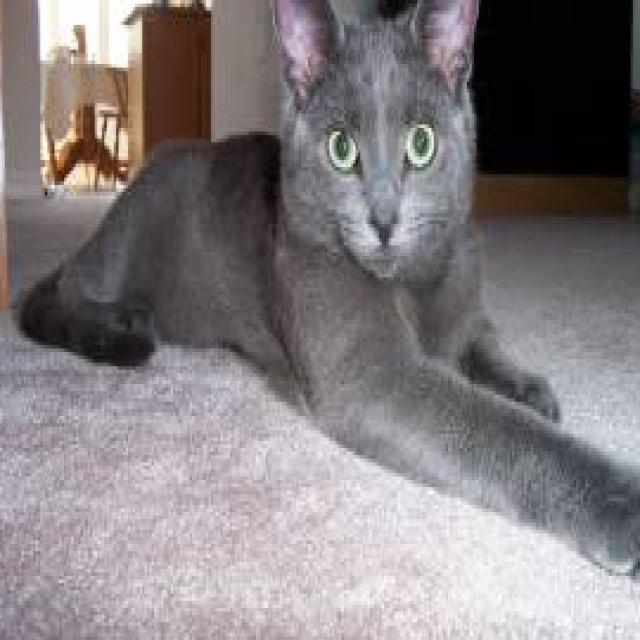Russian Blue: (21, 0, 640, 594)
